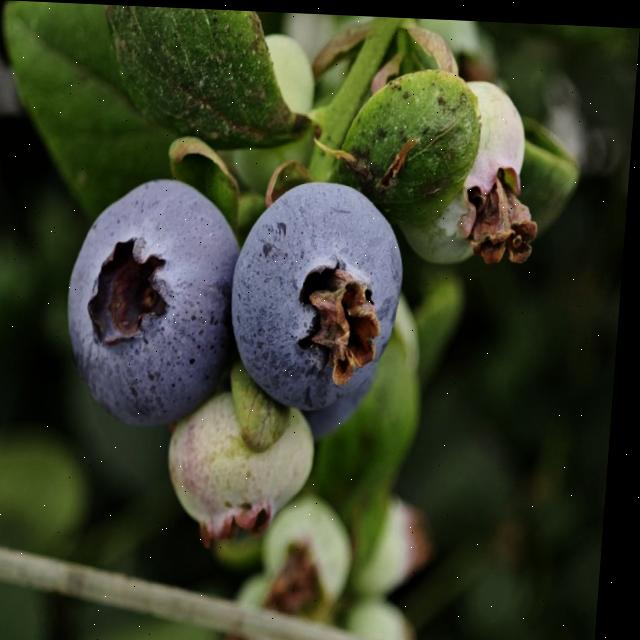RipeBlueBerry: (61, 168, 248, 434), (226, 173, 414, 411)
UnripeBlueBerry: (404, 71, 533, 267), (169, 391, 326, 533)
